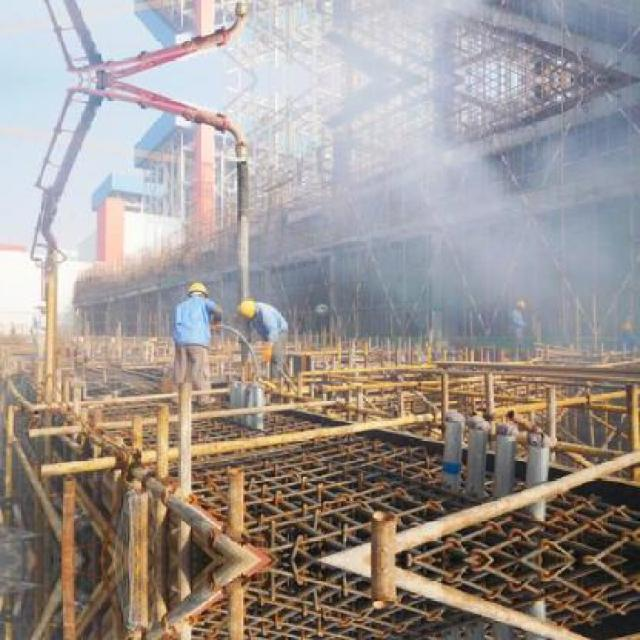helmet: (235, 295, 258, 320), (185, 278, 209, 300), (510, 297, 527, 312)
